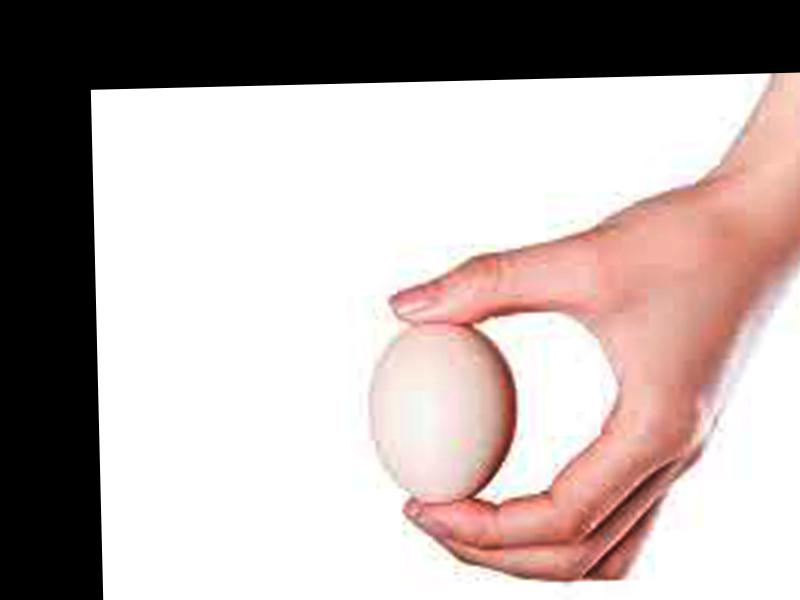Eggs: (366, 318, 518, 506)
